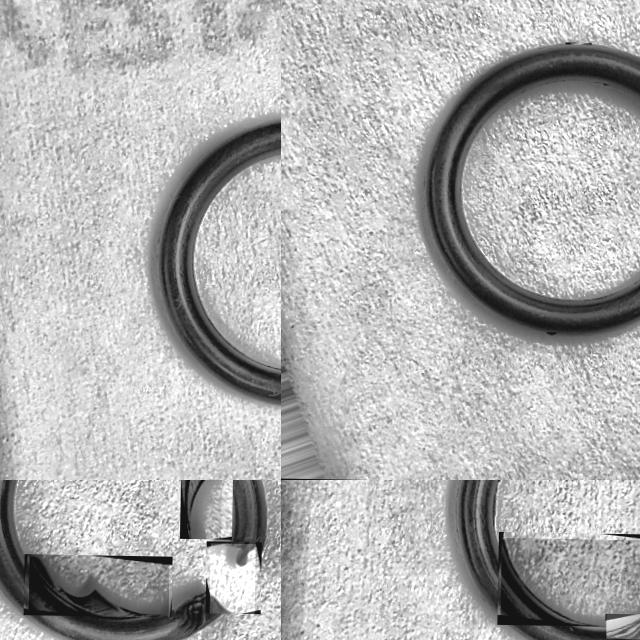侧边压痕: (571, 42, 590, 44), (546, 332, 556, 334)
切割缺陷: (177, 592, 219, 632), (607, 622, 640, 639)
挤压缺陷: (210, 543, 255, 613)
裂纹: (502, 538, 640, 627), (30, 554, 168, 617), (185, 480, 204, 539), (492, 481, 499, 526), (602, 82, 611, 86)
